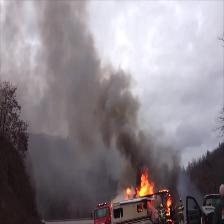fire: (137, 175, 152, 198)
smoke: (45, 28, 97, 112), (75, 118, 147, 164)
